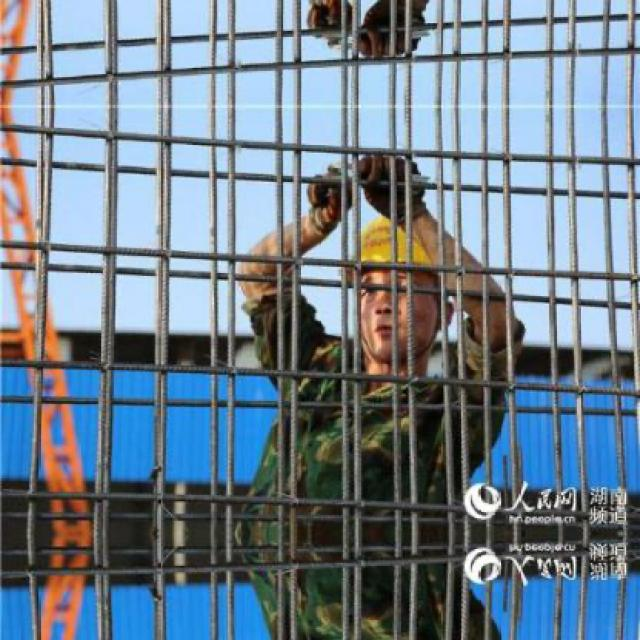helmet: (329, 213, 462, 364)
